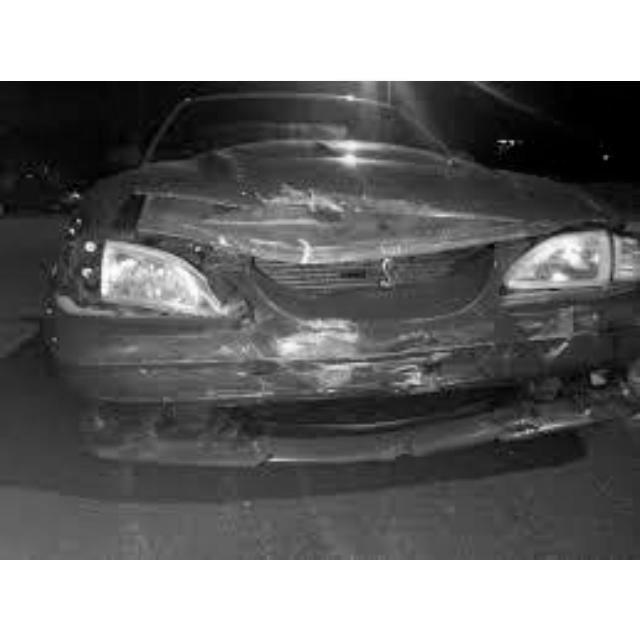bonnet-dent: (139, 127, 534, 255)
front-bumper-dent: (119, 288, 578, 453)
